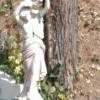Statue: (12, 4, 52, 94)
